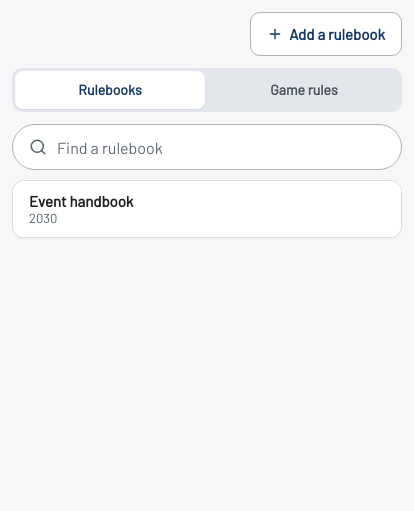
Test case: RulebooksPage › says so when the rulebook cannot be loaded, and retries
This screenshot has width=414, height=511.
Click the button "Event handbook 2030" at [81, 200], box [13, 181, 401, 237]
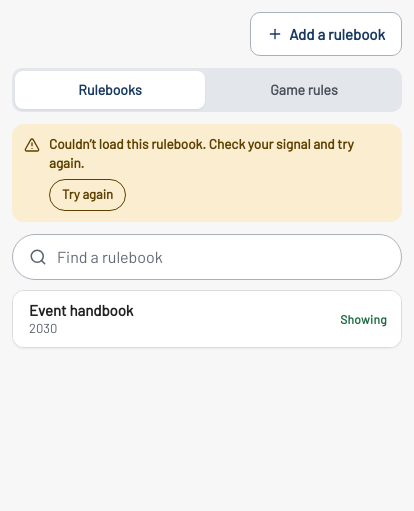
Now the message shows "Couldn’t load this rulebook", box [49, 135, 354, 171]
Click the button "Try again" at [88, 195], box [49, 179, 126, 211]
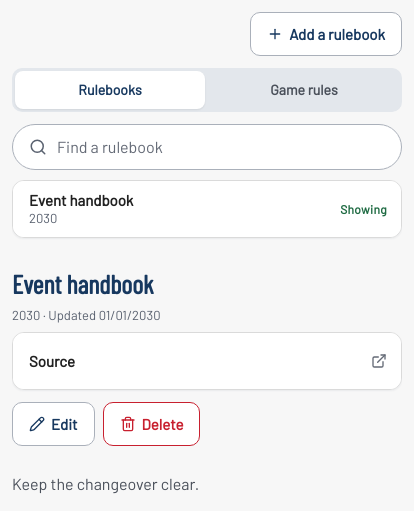
Now the text "Keep the changeover clear." is shown, box [12, 474, 199, 493]
